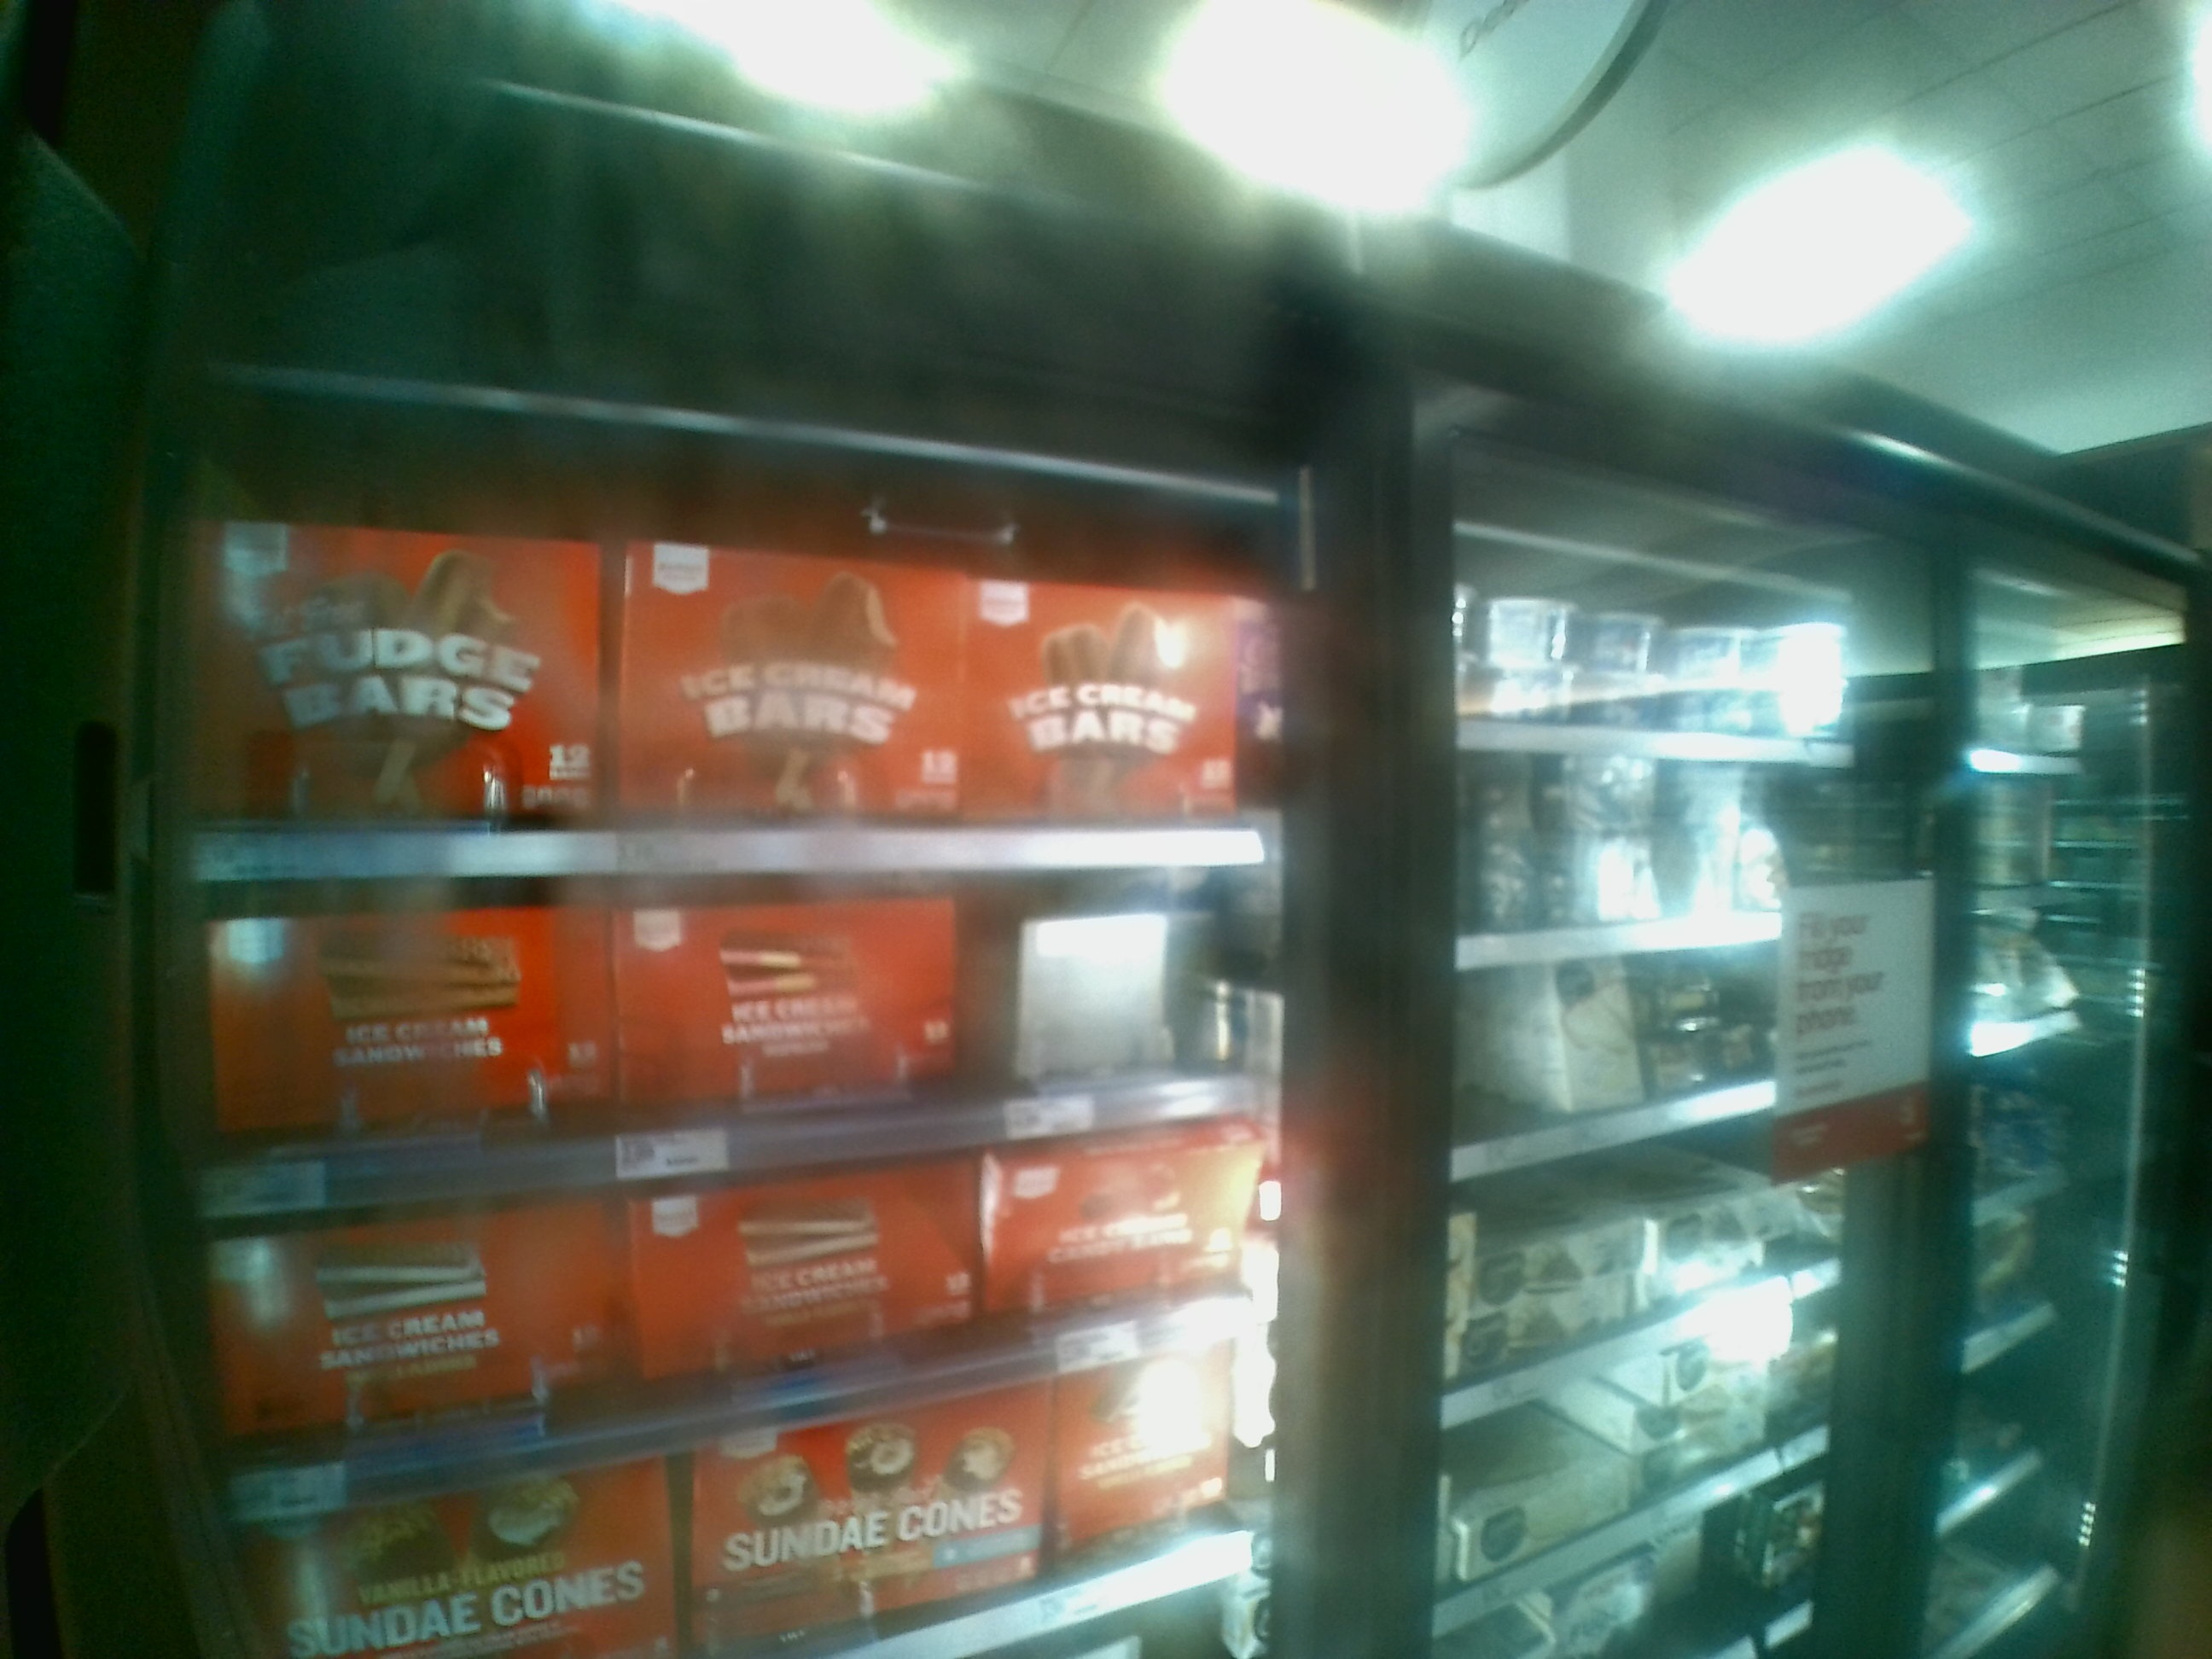shelf: (183, 415, 1273, 875), (199, 882, 1270, 1152), (209, 1162, 1277, 1429)
